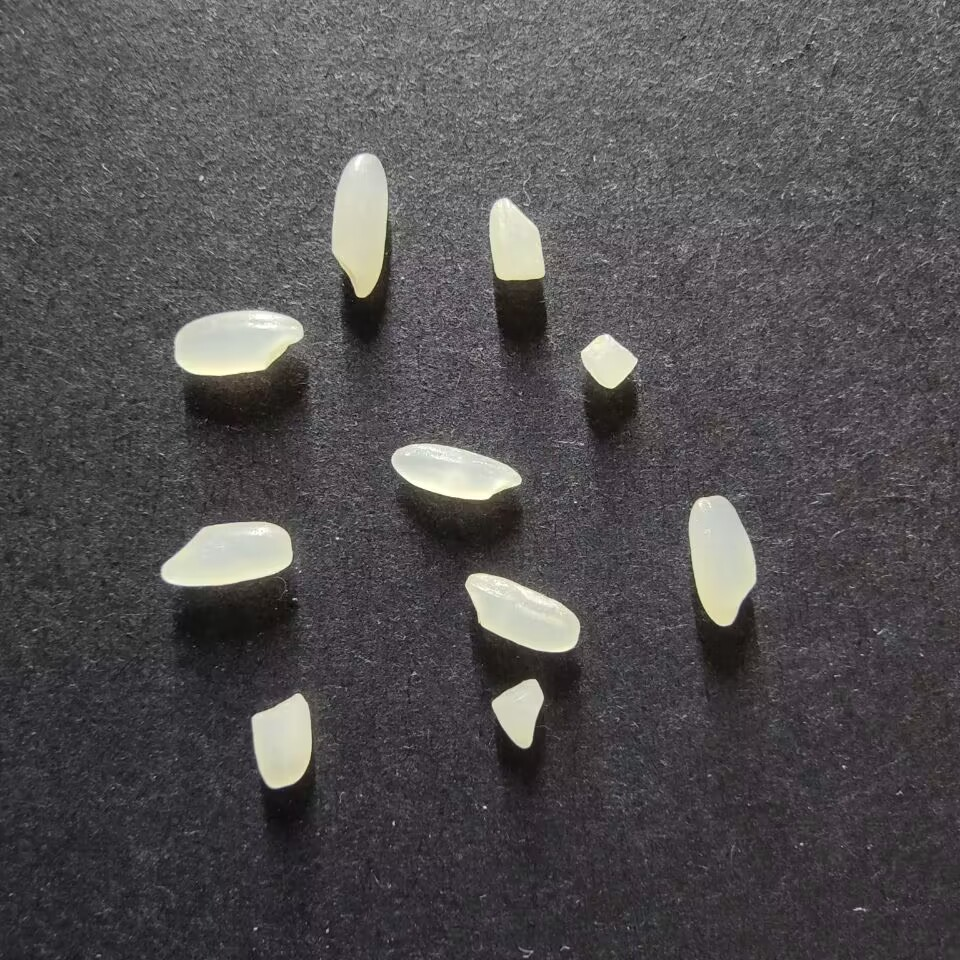broken: (249, 692, 314, 789), (488, 195, 547, 282), (488, 676, 546, 749), (578, 330, 639, 391)
rice: (685, 494, 759, 627), (464, 572, 582, 654), (158, 519, 294, 587), (171, 308, 304, 377), (328, 150, 388, 299), (388, 442, 522, 501)
